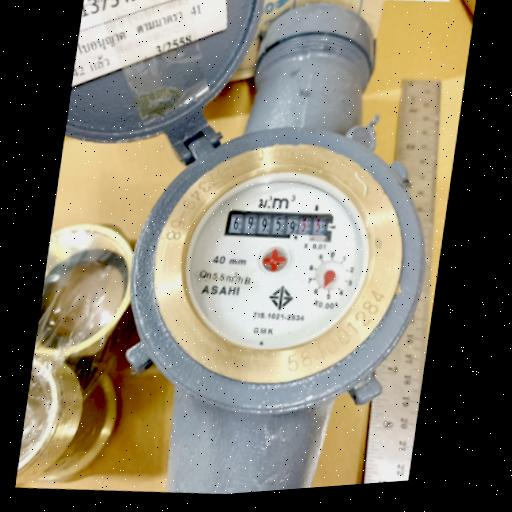5: (312, 216, 325, 236), (273, 215, 285, 236), (299, 216, 311, 235)
6: (230, 214, 243, 234)
9: (245, 214, 258, 235), (259, 214, 272, 235), (287, 216, 299, 236)
border_water_meter_number: (225, 203, 335, 250)
